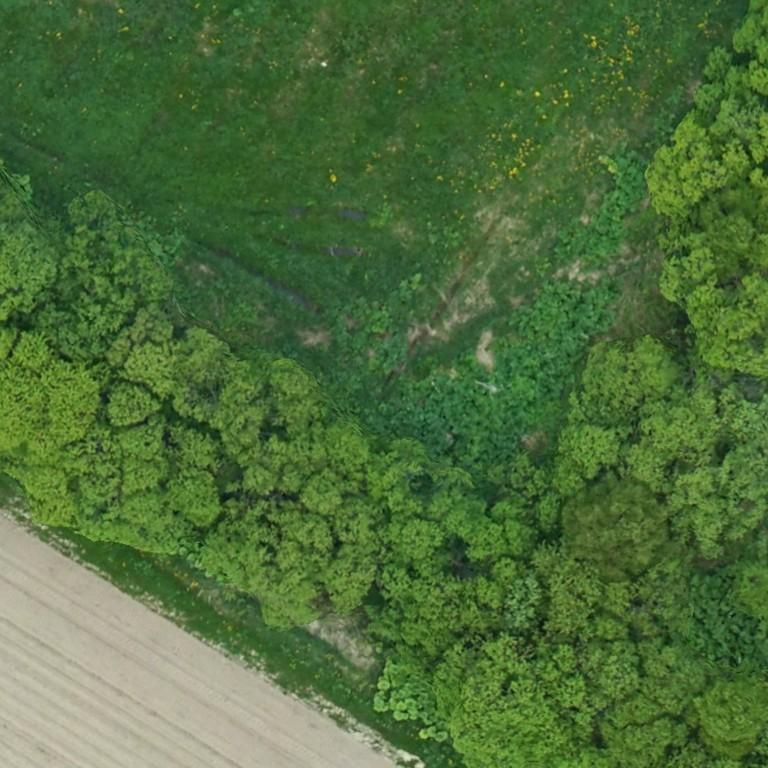hogweed: (387, 279, 617, 469), (551, 155, 645, 262)
